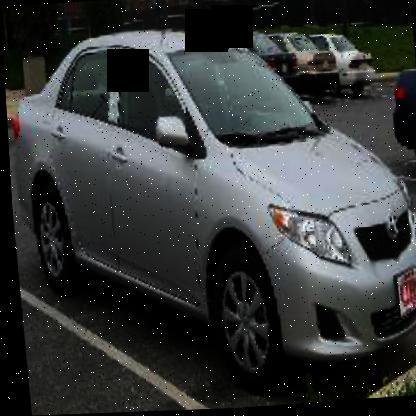not_emergency: (6, 12, 415, 394)
